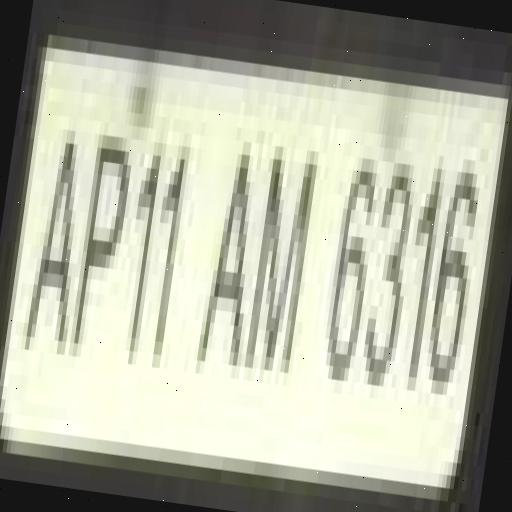number plate: (0, 7, 508, 512)
